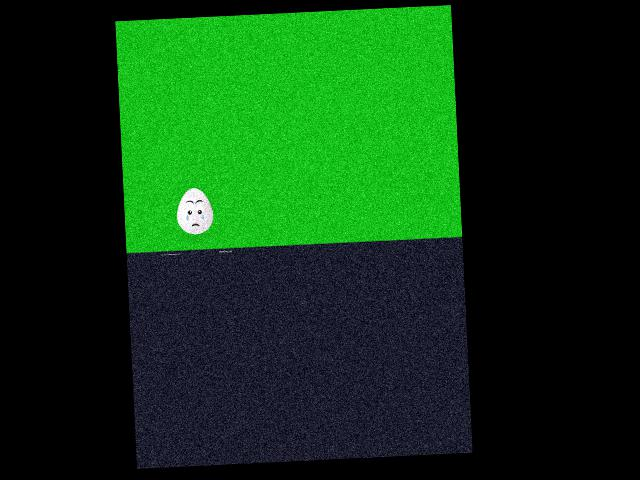egg: (175, 187, 214, 235)
